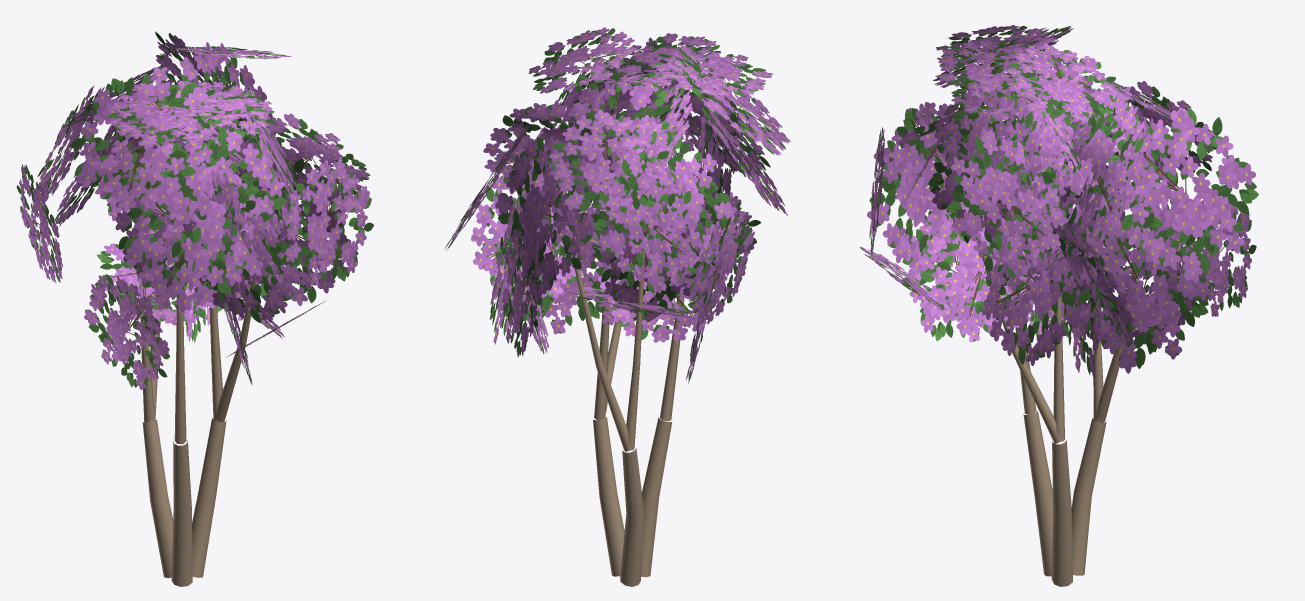
Rendered from pleroma-mutabile.glb.
3 renders of one model, left to right at view 1: azimuth 30°, elevation 25°; view 2: azimuth 150°, elevation 25°; view 3: azimuth 270°, elevation 25°, orthographic. The views are drawn at different scales.
Parts seen in each view (by area): view 1: folhas, tronco; view 2: folhas, tronco; view 3: folhas, tronco.
Part boxes in pixels (x1,y1,x2,y2): folhas: (16,31,373,390); tronco: (140,233,264,586); folhas: (444,27,790,383); tronco: (571,172,693,586); folhas: (859,25,1258,377); tronco: (968,166,1139,586).
Size of the model in its own units: 2.38 by 4 by 3.
Materials: 2 (1 with a texture image).
